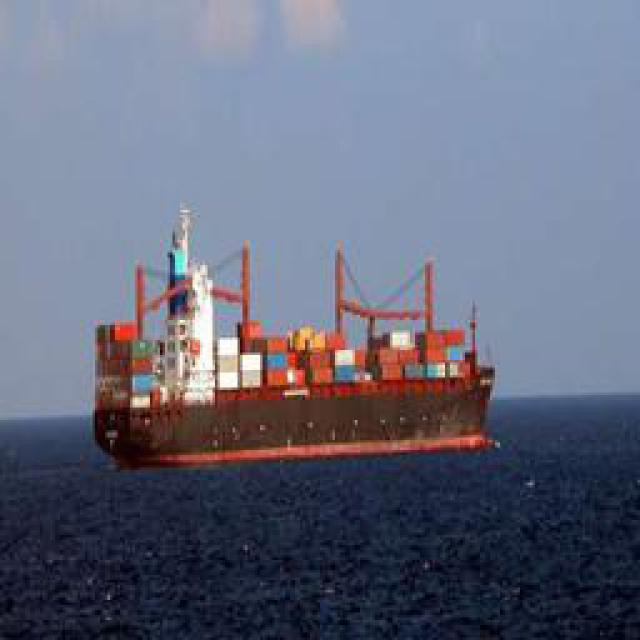Ship: (90, 214, 498, 469)
